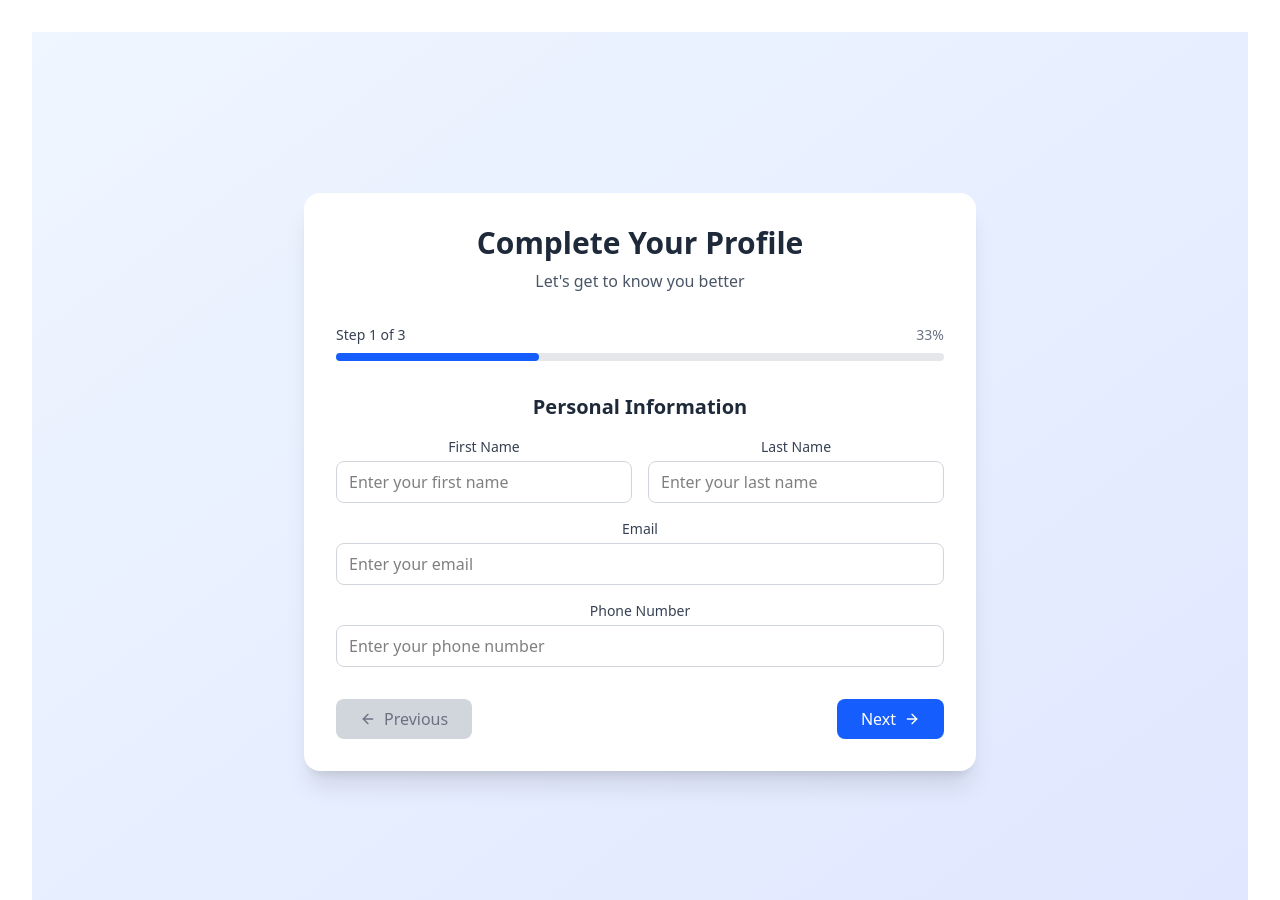
Scenario: Onboarding Component › goes to Step 2 when valid inputs are filled and Next is clicked
This screenshot has width=1280, height=900.
Fill in required fields
Type "John" into the field with placeholder "Enter your first name".
click(484, 482); type("John")  # box [336,461,632,503]
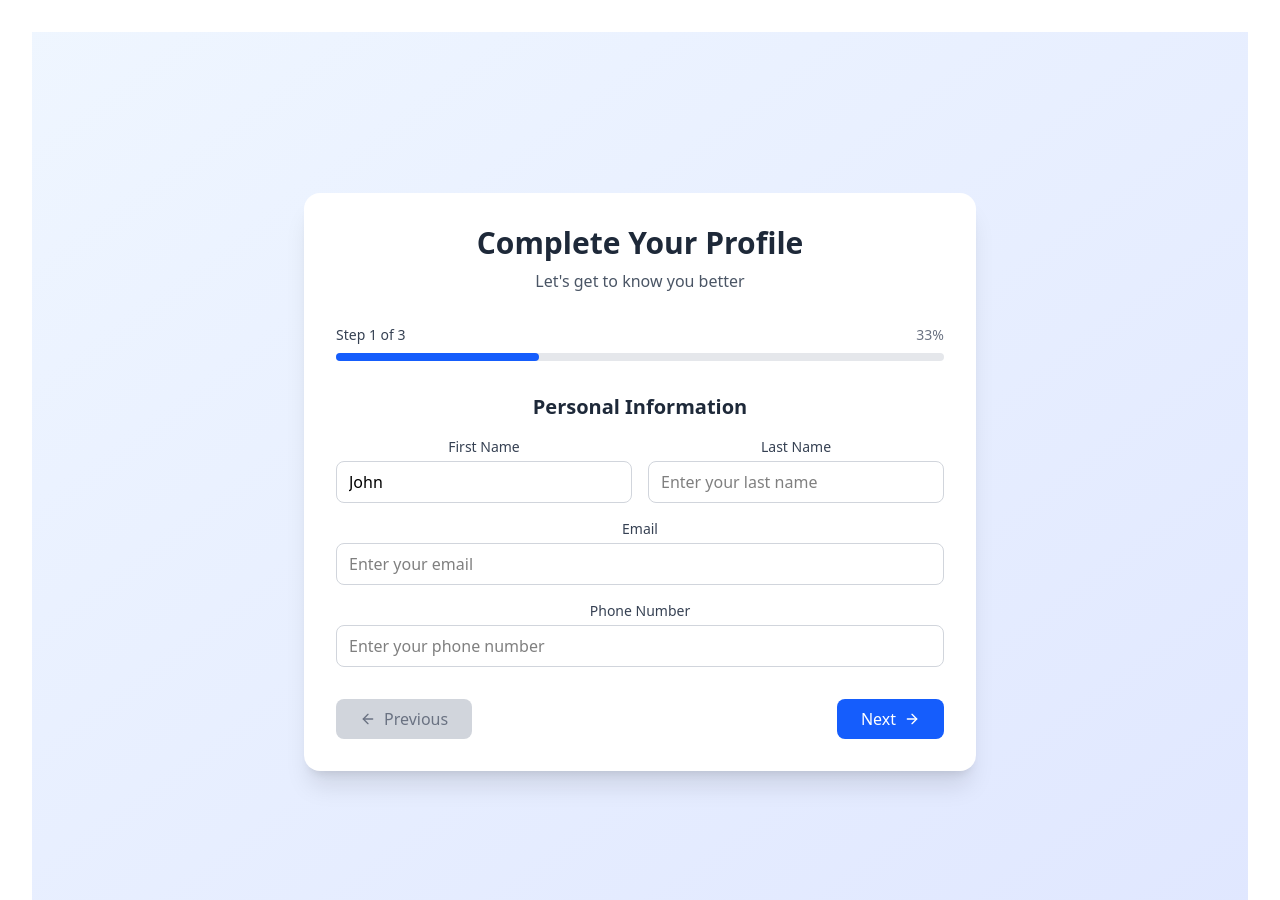
Type "Doe" into the field with placeholder "Enter your last name".
click(796, 482); type("Doe")  # box [648,461,944,503]
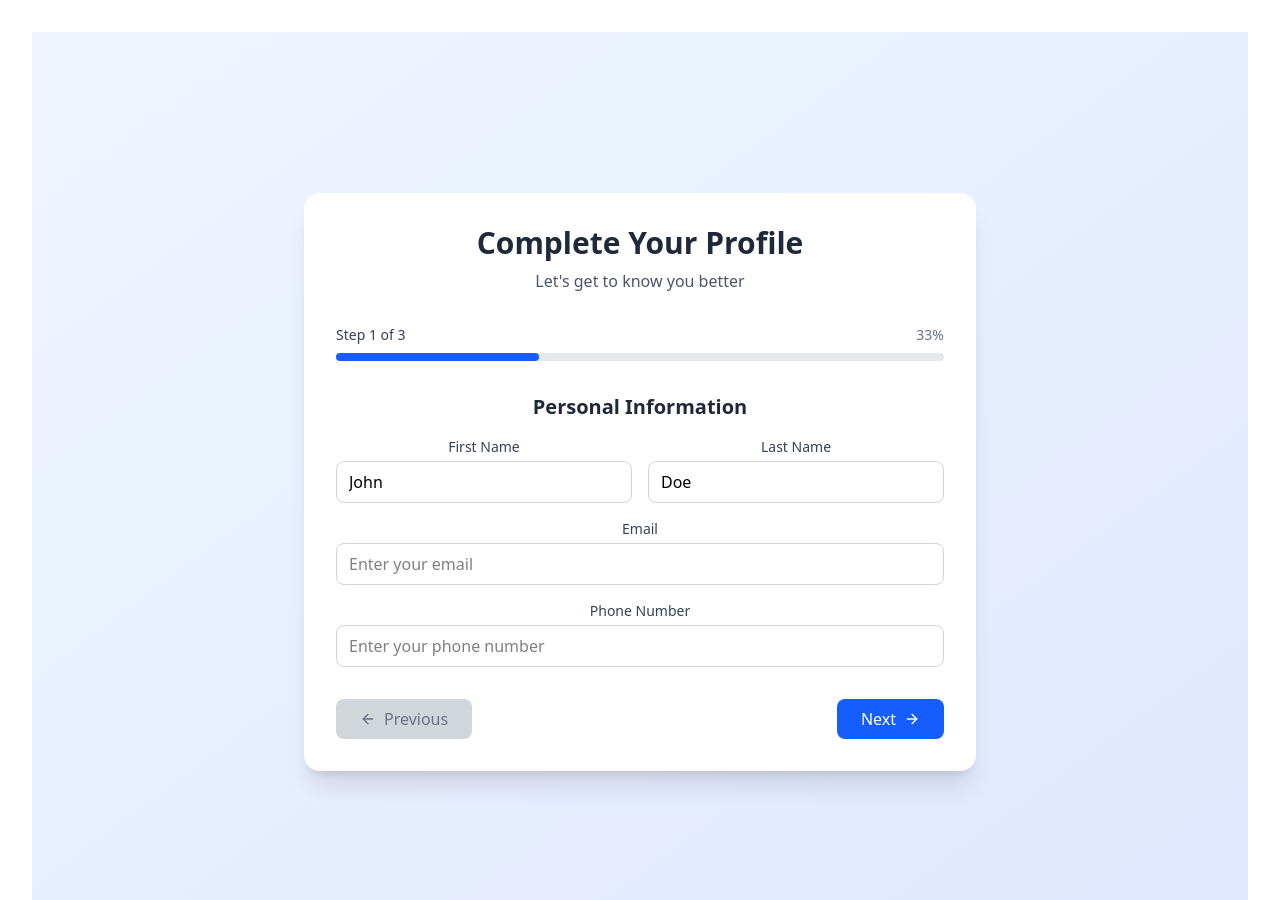
Type "john@example.com" into the field with placeholder "Enter your email".
click(640, 564); type("john@example.com")  # box [336,543,944,585]
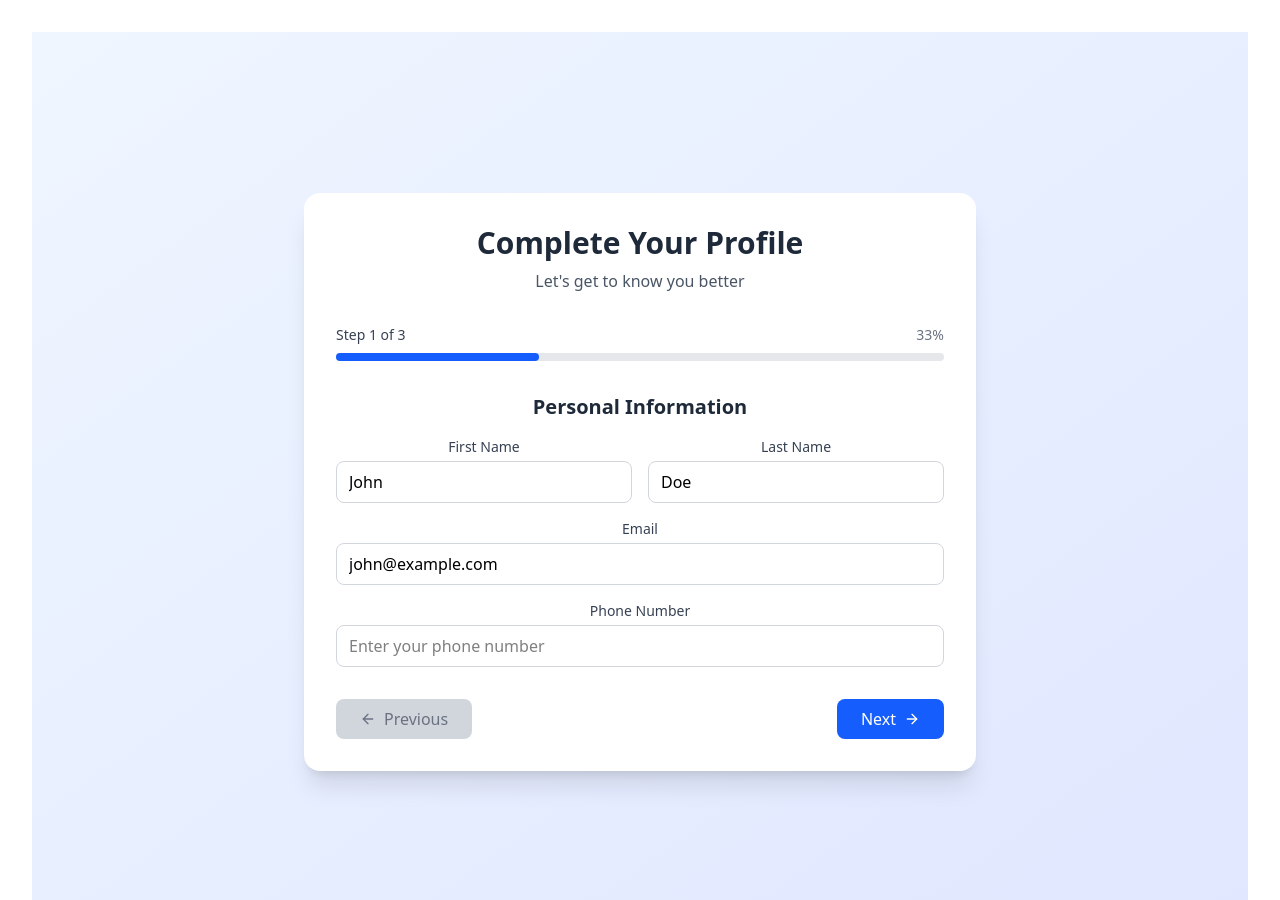
Type "1234567890" into the field with placeholder "Enter your phone number".
click(640, 646); type("1234567890")  # box [336,625,944,667]
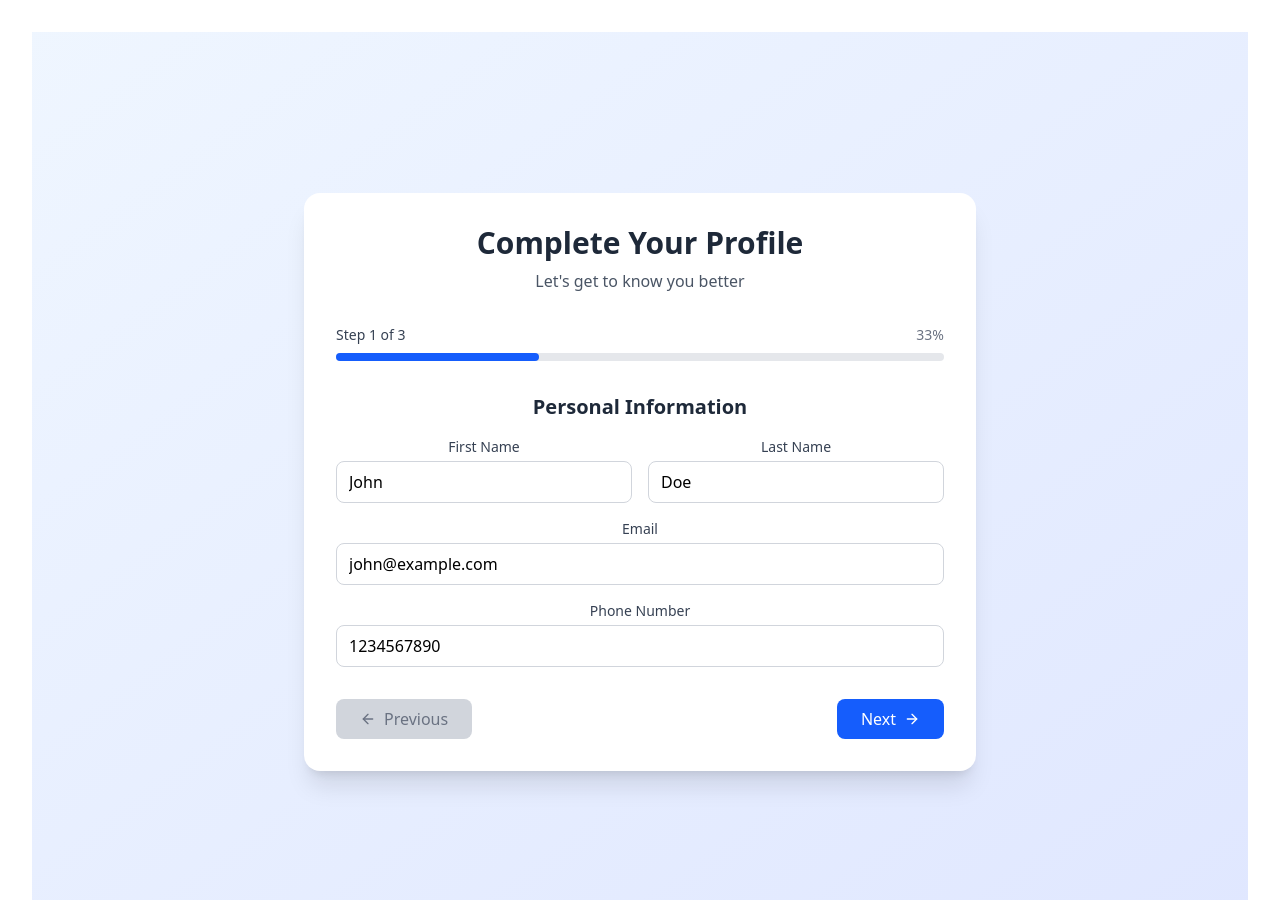
Click Next
Click the button "Next".
click(890, 719)  # box [837,699,944,739]
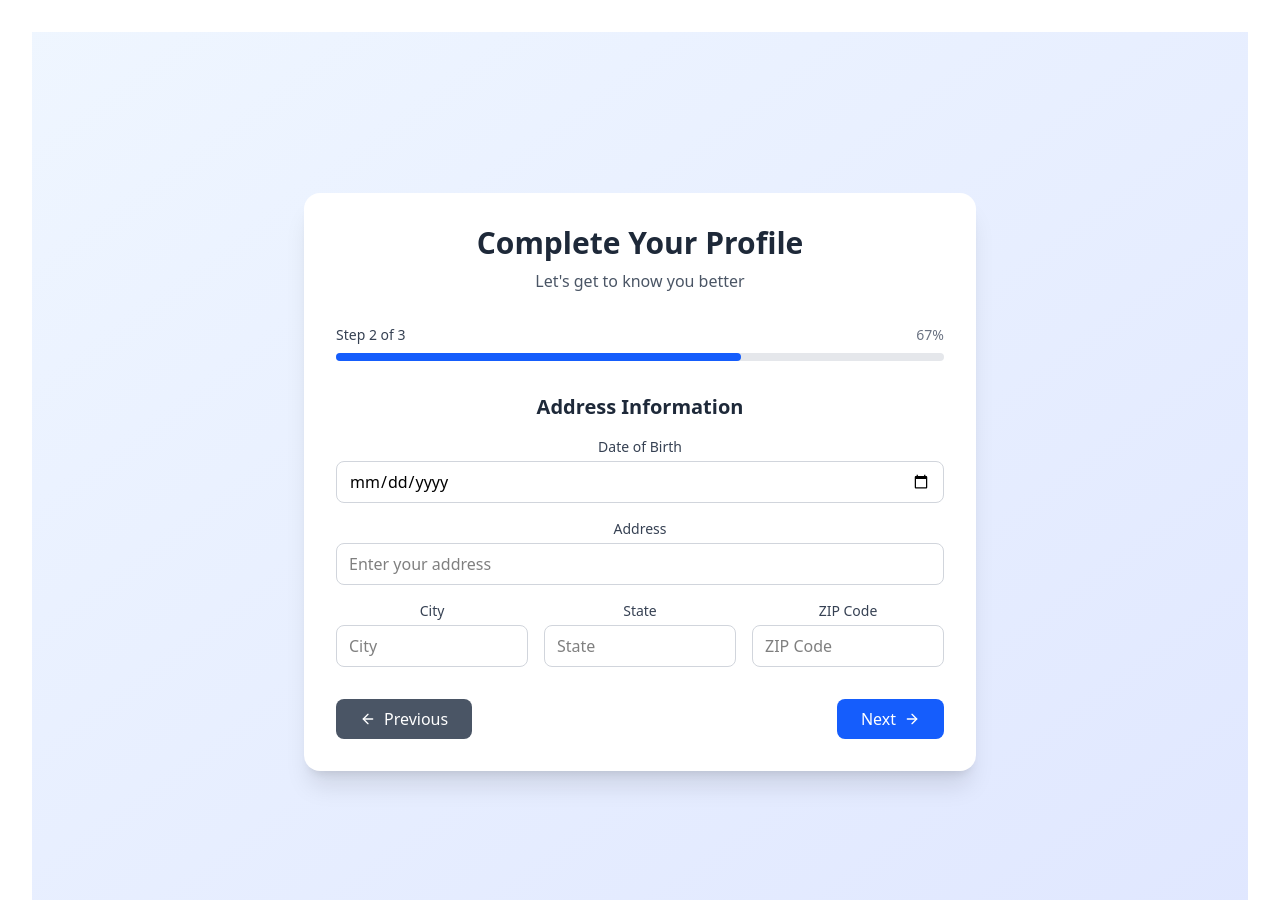
Check: the heading "Address Information" is shown, box [537,393,743,420]
